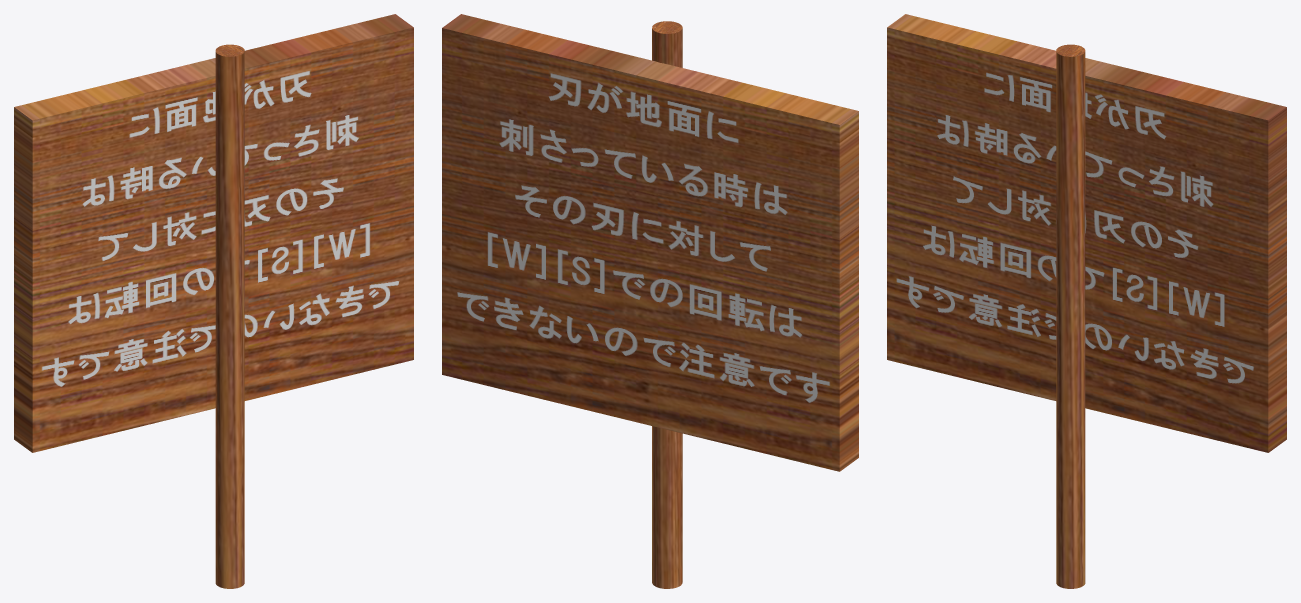
The model's file is Sign2.fbx.
The picture shows the model from 3 angles, left to right: view 1: azimuth 30°, elevation 25°; view 2: azimuth 150°, elevation 25°; view 3: azimuth 330°, elevation 25°; orthographic projection. The views are drawn at different scales.
Visible parts, largest first — view 1: pCube1, pCylinder1; view 2: pCube1, pCylinder1; view 3: pCube1, pCylinder1.
Boxes of the visible parts, bbox=[...] form: pCube1: bbox=[14, 14, 413, 452]; pCylinder1: bbox=[215, 44, 244, 588]; pCube1: bbox=[442, 14, 858, 471]; pCylinder1: bbox=[652, 21, 682, 588]; pCube1: bbox=[887, 14, 1286, 452]; pCylinder1: bbox=[1056, 44, 1085, 588].
Size of the model in its own units: 1.2 by 1.6 by 0.1781.
